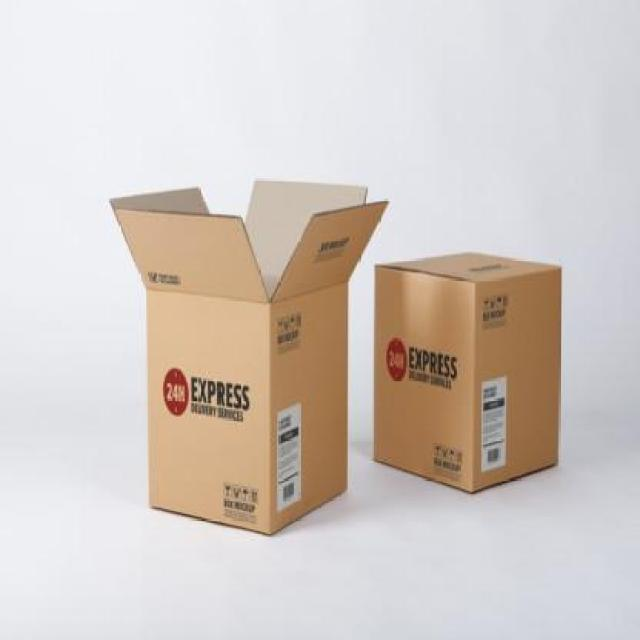box: (111, 178, 389, 538), (374, 250, 564, 493)
